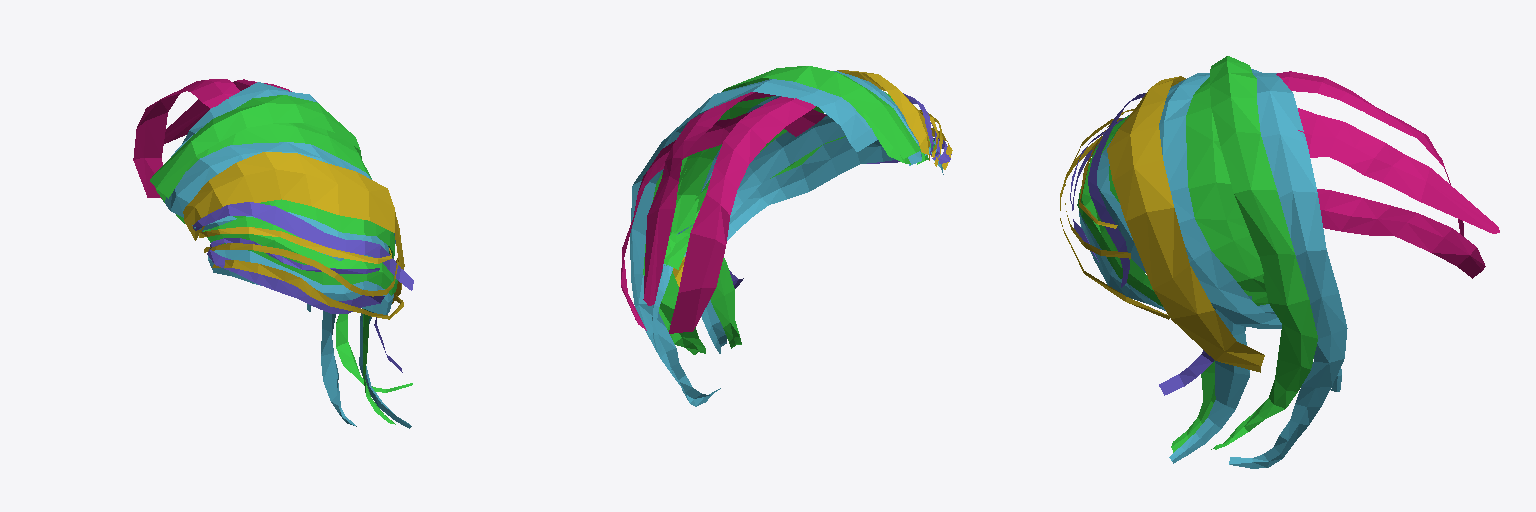
Rendered from HairRetopo002.obj.
3 renders of one model, left to right at view 1: azimuth 30°, elevation 25°; view 2: azimuth 150°, elevation 25°; view 3: azimuth 270°, elevation 25°, orthographic.
Visible parts, largest first — view 1: Layer2, Layer4, Layer1, Layer3, Layer0; view 2: Layer1, Layer0, Layer2, Layer4, Layer3; view 3: Layer1, Layer2, Layer4, Layer0, Layer3.
Boxes of the visible parts, box(x1,y1,x2,y2) form: Layer2: box(150, 95, 412, 424); Layer4: box(183, 152, 404, 319); Layer1: box(163, 82, 411, 428); Layer3: box(193, 202, 413, 372); Layer0: box(133, 79, 291, 198); Layer1: box(630, 71, 943, 406); Layer0: box(621, 92, 826, 333); Layer2: box(643, 66, 935, 354); Layer4: box(673, 70, 952, 286); Layer3: box(729, 93, 951, 288); Layer1: box(1079, 69, 1347, 468); Layer2: box(1077, 56, 1317, 452); Layer4: box(1060, 76, 1264, 372); Layer0: box(1276, 71, 1499, 278); Layer3: box(1070, 93, 1213, 395).
Size of the model in its own units: 0.1586 by 0.2144 by 0.2437.